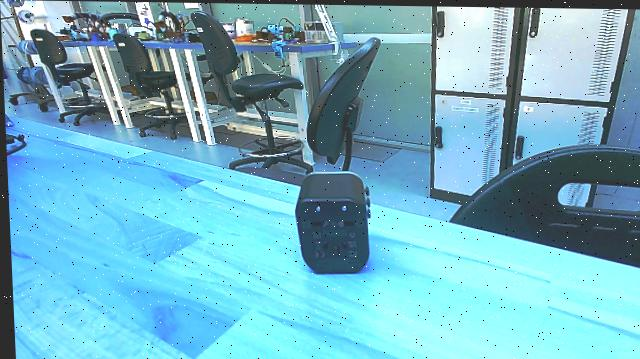adapter: (287, 166, 375, 280)
